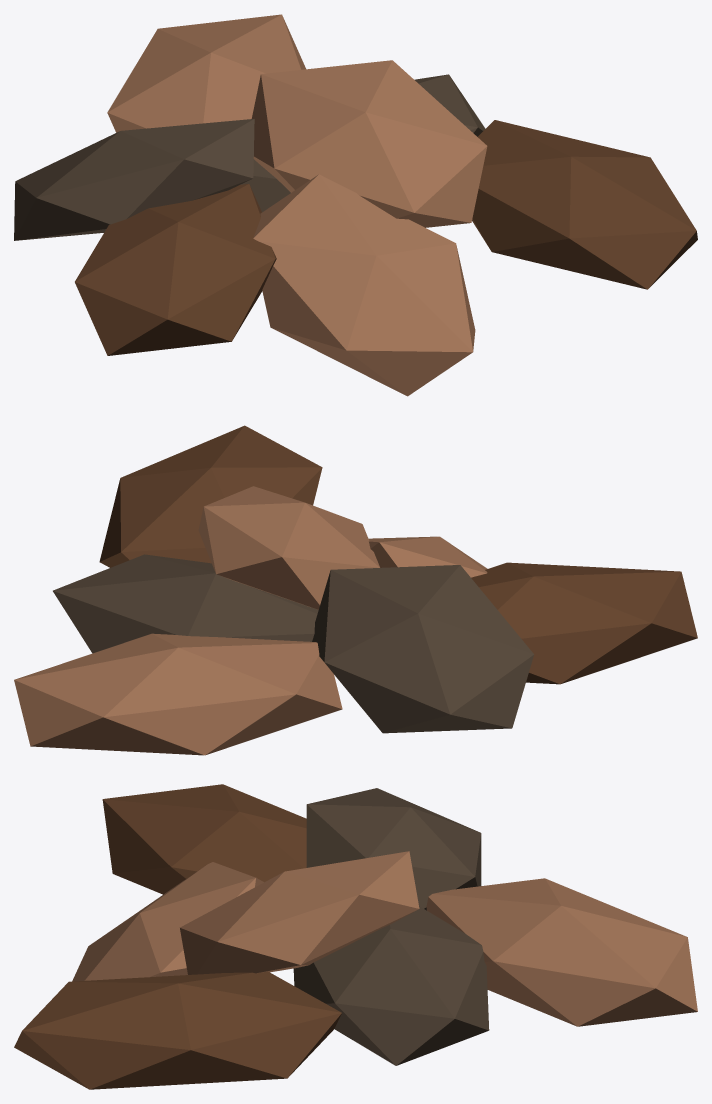
The model's file is OreDepositMERGED.glb.
3 renders of one model, top to bottom at view 1: azimuth 30°, elevation 25°; view 2: azimuth 150°, elevation 25°; view 3: azimuth 270°, elevation 25°, orthographic. The views are drawn at different scales.
Parts seen in each view (by area): view 1: Icosphere.007, Icosphere.003, Icosphere.005, Icosphere, Icosphere.002, Icosphere.004, Icosphere.001; view 2: Icosphere.004, Icosphere.002, Icosphere, Icosphere.001, Icosphere.005, Icosphere.003, Icosphere.007; view 3: Icosphere.005, Icosphere.004, Icosphere.001, Icosphere.003, Icosphere, Icosphere.002, Icosphere.007.
Boxes of the visible parts, bbox=[...] form: Icosphere.007: bbox=[253, 174, 475, 396]; Icosphere.003: bbox=[251, 60, 487, 227]; Icosphere.005: bbox=[472, 120, 697, 289]; Icosphere: bbox=[75, 184, 276, 355]; Icosphere.002: bbox=[14, 119, 254, 240]; Icosphere.004: bbox=[107, 14, 305, 132]; Icosphere.001: bbox=[241, 74, 485, 212]; Icosphere.004: bbox=[14, 633, 342, 755]; Icosphere.002: bbox=[312, 565, 534, 733]; Icosphere: bbox=[471, 562, 697, 684]; Icosphere.001: bbox=[53, 554, 318, 653]; Icosphere.005: bbox=[99, 425, 322, 567]; Icosphere.003: bbox=[198, 486, 379, 609]; Icosphere.007: bbox=[369, 536, 487, 577]; Icosphere.005: bbox=[14, 971, 341, 1089]; Icosphere.004: bbox=[426, 878, 697, 1026]; Icosphere.001: bbox=[293, 906, 489, 1065]; Icosphere.003: bbox=[180, 851, 419, 974]; Icosphere: bbox=[102, 784, 306, 894]; Icosphere.002: bbox=[306, 788, 481, 910]; Icosphere.007: bbox=[72, 862, 263, 981].
Bounding box in the file's own units: 1.11 × 0.3731 × 1.2.
